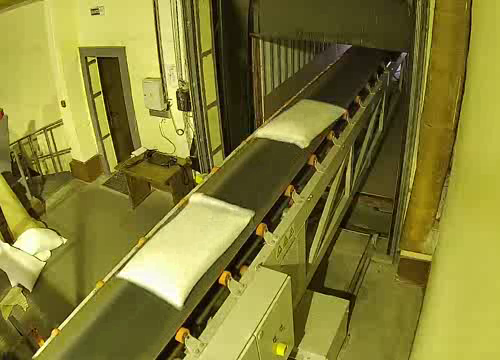bag: (114, 186, 257, 313), (256, 97, 348, 150)
